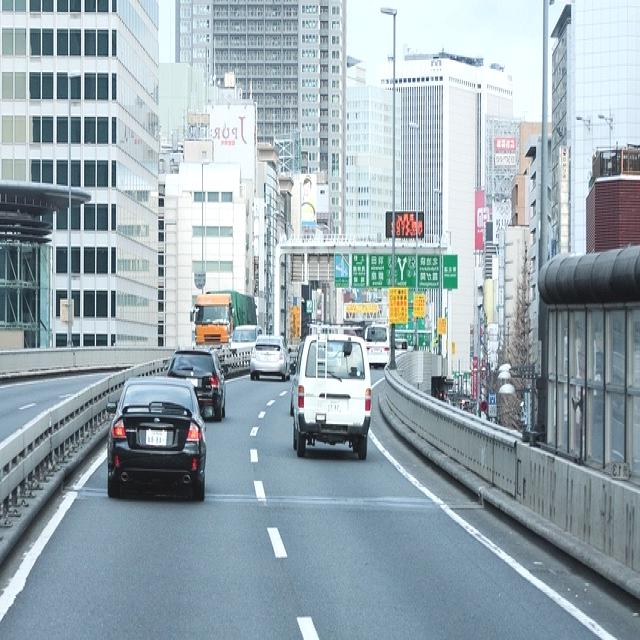Caminhao: (189, 288, 258, 352)
Carro Prata: (245, 333, 289, 380)
Carro Preto: (103, 378, 208, 509), (166, 346, 224, 424)
Van Branca: (294, 332, 374, 460)
